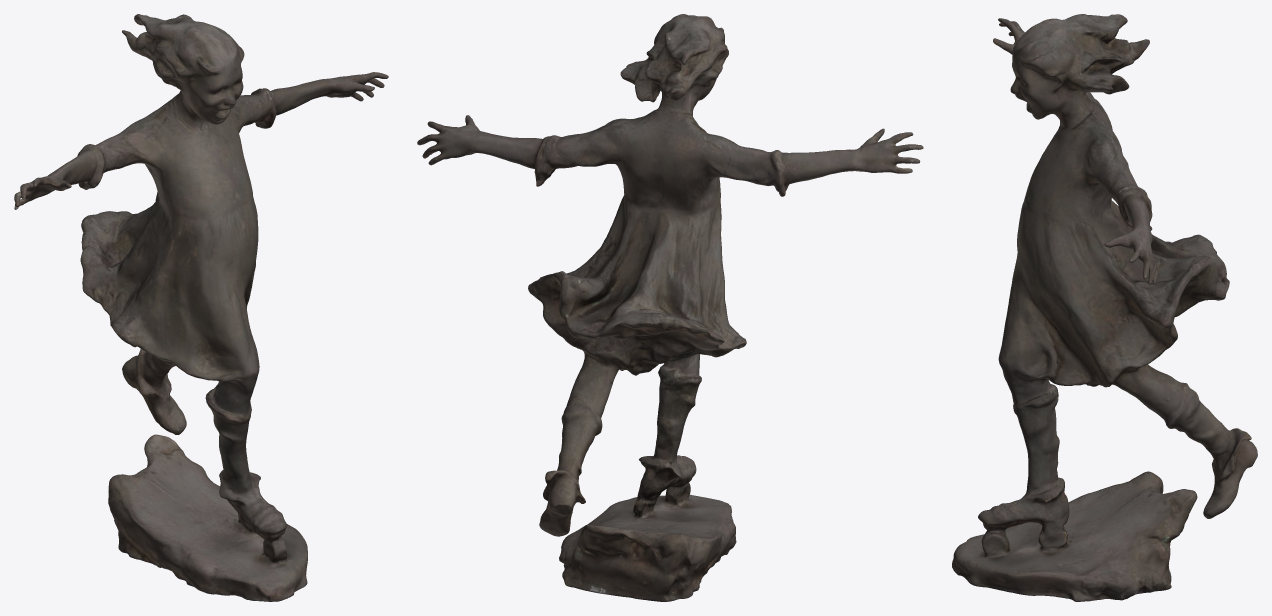
The model's file is girl-skating-smithsonian.glb.
3 views of the same model, side by side, from view 1: azimuth 30°, elevation 25°; view 2: azimuth 150°, elevation 25°; view 3: azimuth 270°, elevation 25° (orthographic). The views are drawn at different scales.
Bounding box in the file's own units: 0.2777 × 0.3311 × 0.172.
1 material, 1 textured.
